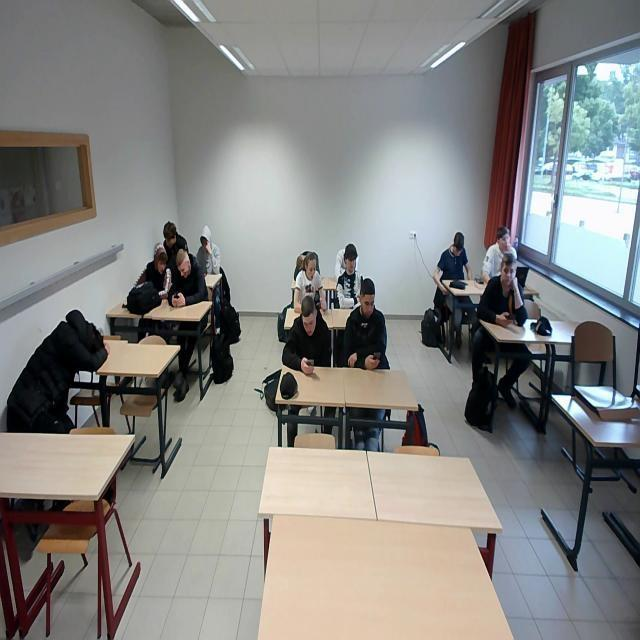phone_use: (342, 277, 387, 367), (281, 295, 329, 373), (476, 253, 526, 324), (168, 248, 206, 305)
